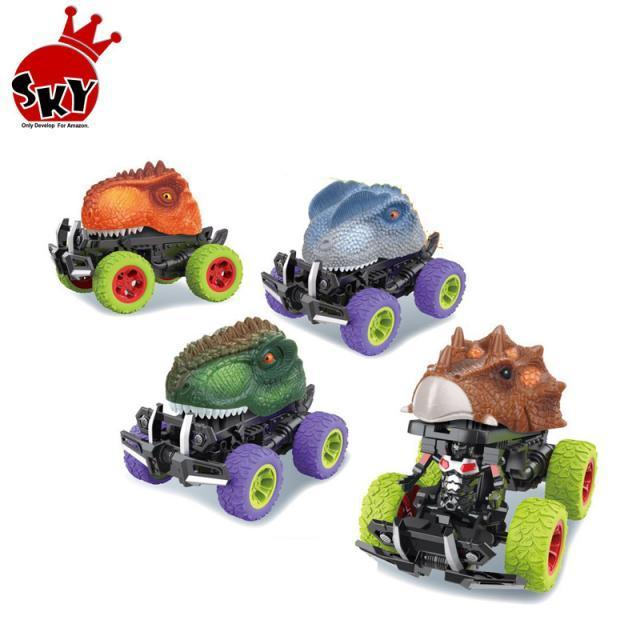hard-toy: (357, 327, 599, 593), (122, 319, 350, 521), (262, 182, 466, 356), (51, 162, 244, 314)
